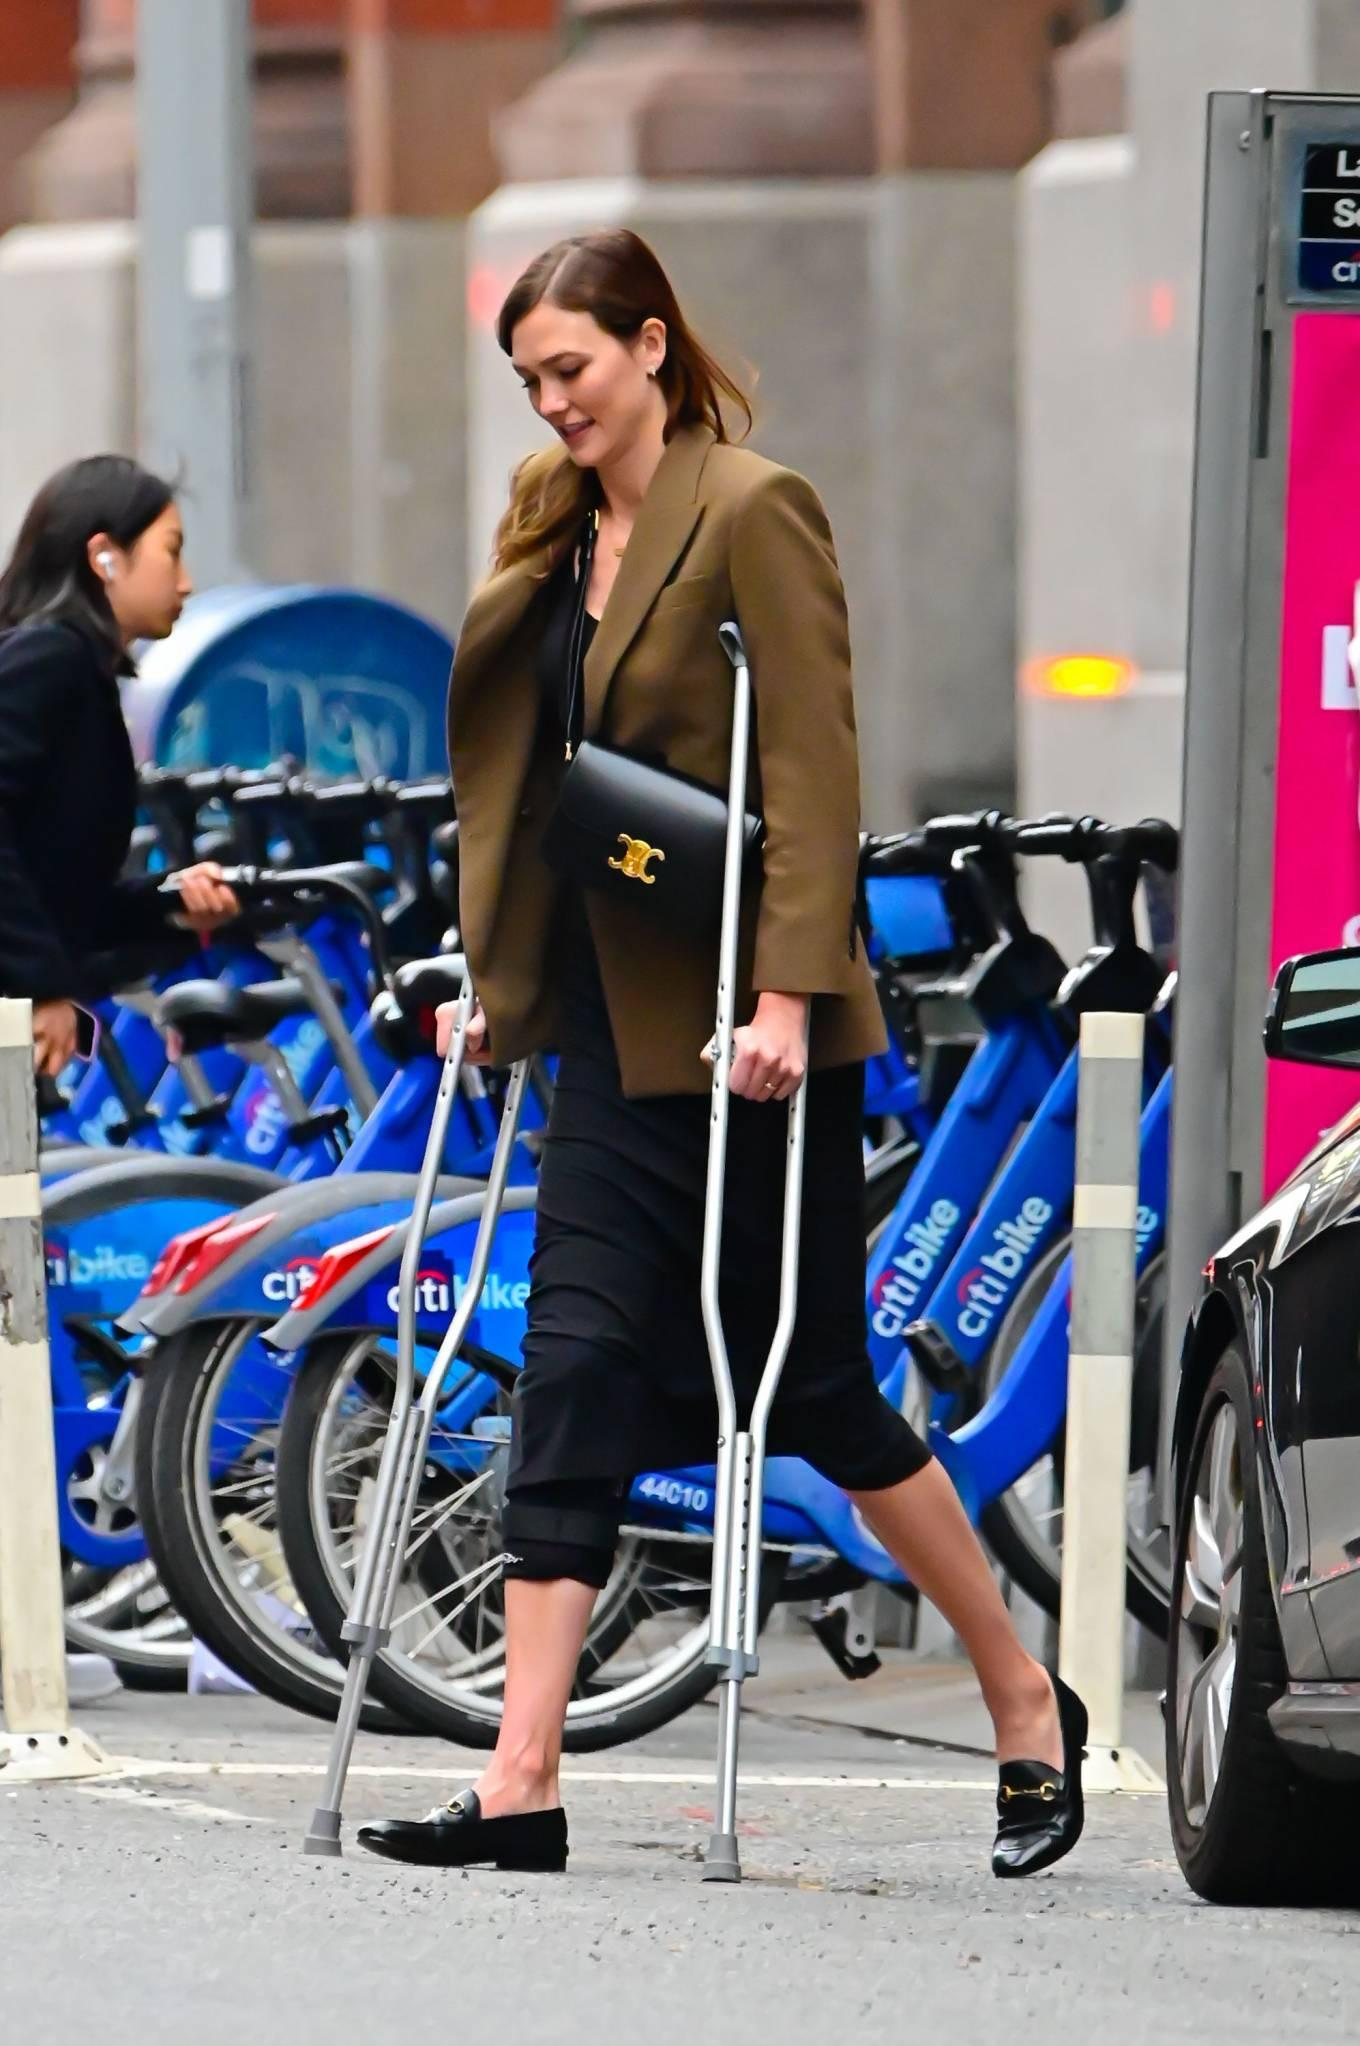crutches: (302, 225, 1091, 1881)
